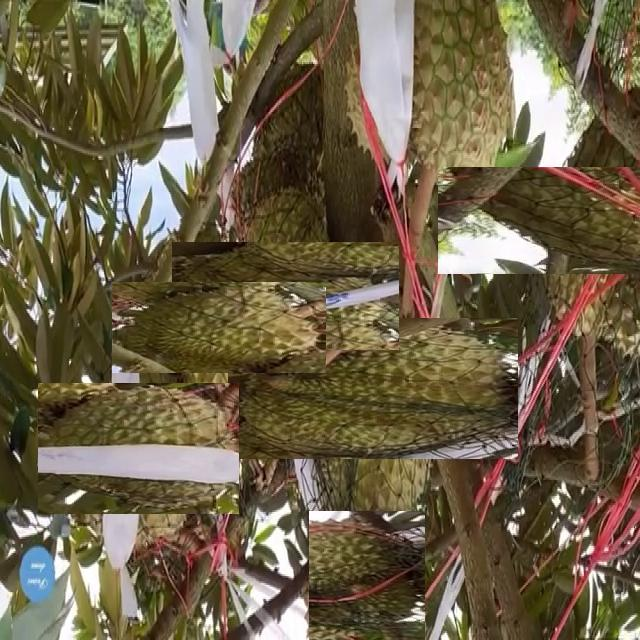durian: (265, 281, 481, 497), (341, 2, 515, 209), (484, 121, 640, 321), (201, 213, 370, 380), (55, 365, 221, 532), (142, 251, 296, 405), (303, 518, 433, 640)
